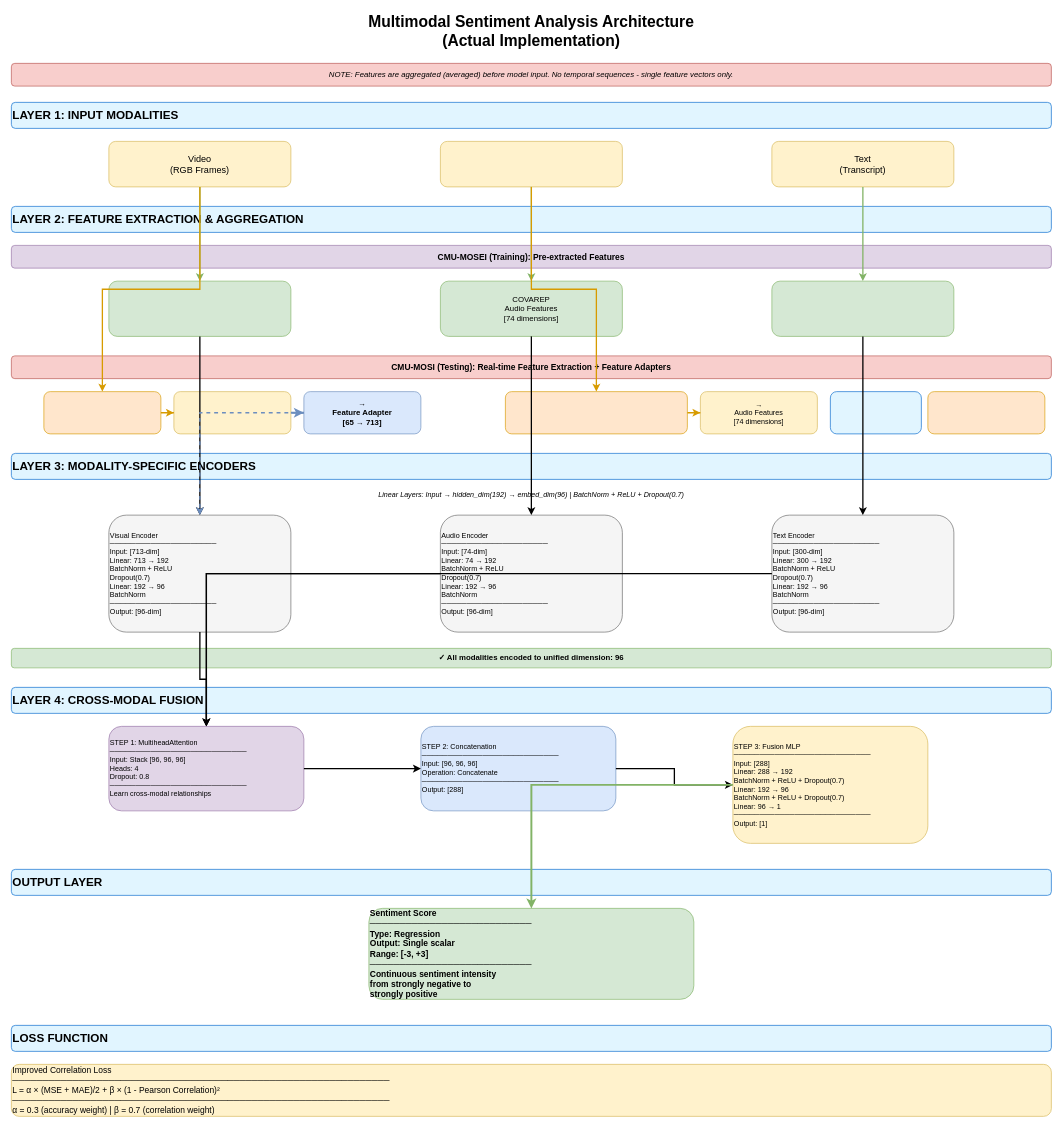
Some shapes in this 1063 by 1128 pixel diagram are drawn without their labels. The shapes that lost their labels are listed below. From the top down, each one's centre as x and y in pixels, then its label:
At (x=531, y=164): "Audio (Waveform)".
At (x=199, y=308): "OpenFace2 Visual Features [713 dimensions]".
At (x=862, y=308): "GloVe Text Features [300 dimensions]".
At (x=102, y=412): "FaceMesh 468 Landmarks".
At (x=232, y=412): "→ Emotion Features [65 dimensions]".
At (x=596, y=412): "Librosa MFCC + Chroma + Spectral".
At (x=875, y=412): "(No adapter needed)".
At (x=986, y=412): "BERT Tokenizer + BERT Model".
